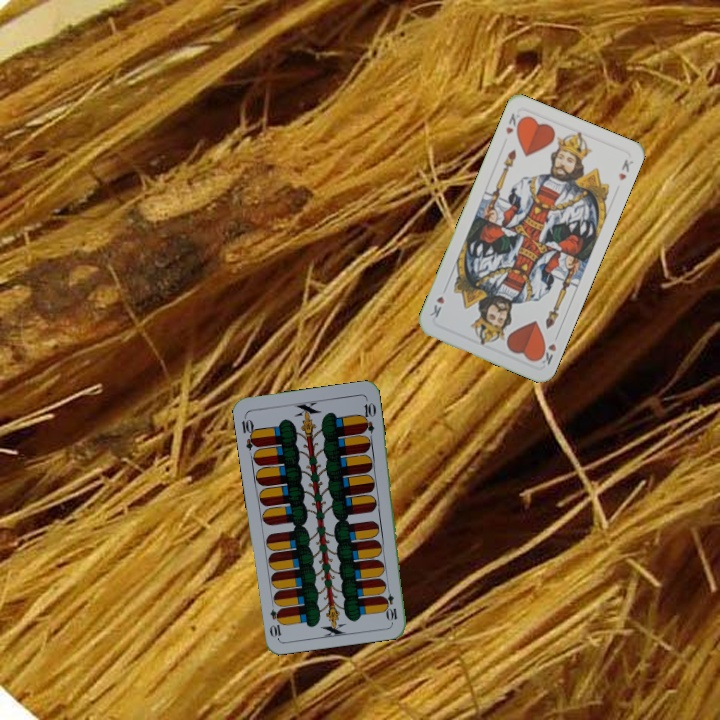E10: (238, 412, 260, 452), (382, 583, 400, 623)
HK: (535, 339, 559, 368), (502, 108, 525, 137)
